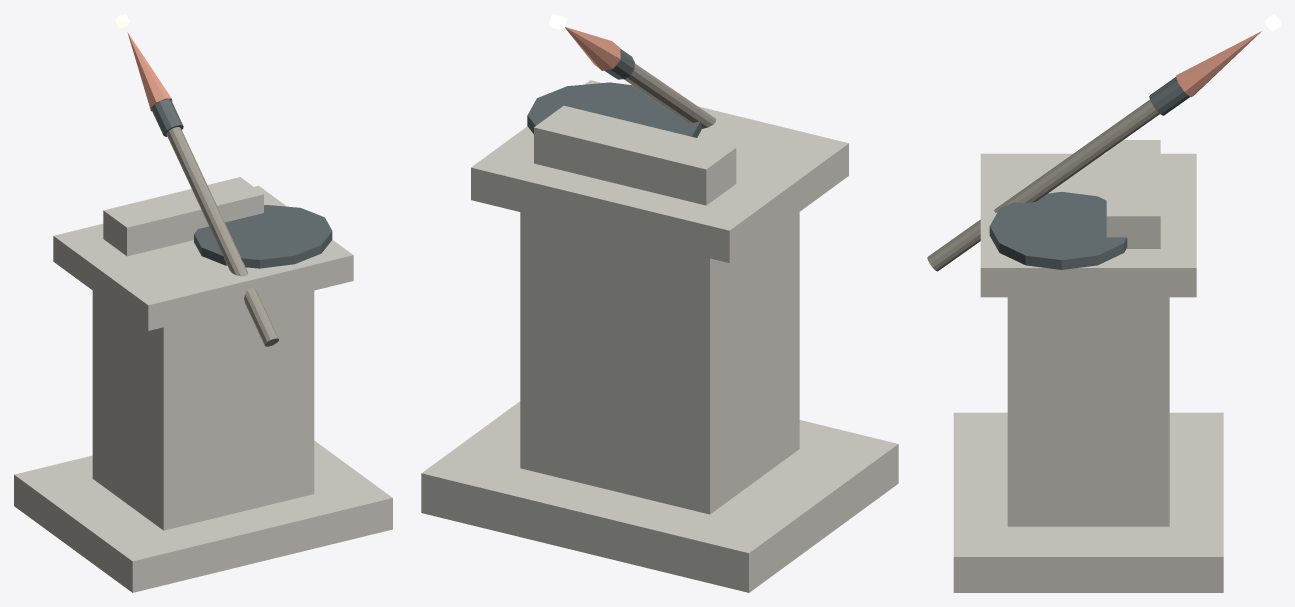
The model's file is LM01_Moxi.glb.
3 renders of one model, left to right at view 1: azimuth 30°, elevation 25°; view 2: azimuth 150°, elevation 25°; view 3: azimuth 270°, elevation 25°, orthographic. The views are drawn at different scales.
Parts seen in each view (by area): view 1: Column, Base, Cap, BrushRest, InkPool, BrushShaft, BrushTip, BrushFerrule; view 2: Column, Base, Cap, BrushRest, InkPool, BrushShaft, BrushTip; view 3: Column, Base, Cap, InkPool, BrushRest, BrushShaft, BrushTip, BrushFerrule.
Boxes of the visible parts, <box> form: Column: <box>92,290,314,530</box>; Base: <box>14,440,392,592</box>; Cap: <box>53,185,353,330</box>; BrushRest: <box>103,177,263,256</box>; InkPool: <box>194,205,332,268</box>; BrushShaft: <box>166,127,278,346</box>; BrushTip: <box>127,32,172,111</box>; BrushFerrule: <box>151,99,183,136</box>; Column: <box>520,212,799,514</box>; Base: <box>421,401,898,592</box>; Cap: <box>471,80,848,262</box>; BrushRest: <box>534,105,736,205</box>; InkPool: <box>527,82,701,137</box>; BrushShaft: <box>624,63,715,128</box>; BrushTip: <box>565,27,620,70</box>; Column: <box>1007,297,1169,526</box>; Base: <box>953,412,1223,592</box>; Cap: <box>980,153,1196,297</box>; InkPool: <box>989,191,1127,269</box>; BrushRest: <box>1106,140,1160,248</box>; BrushShaft: <box>927,100,1159,271</box>; BrushTip: <box>1176,31,1261,97</box>; BrushFerrule: <box>1149,77,1189,115</box>.
Size of the model in its own units: 1.9 by 3.09 by 1.96.
